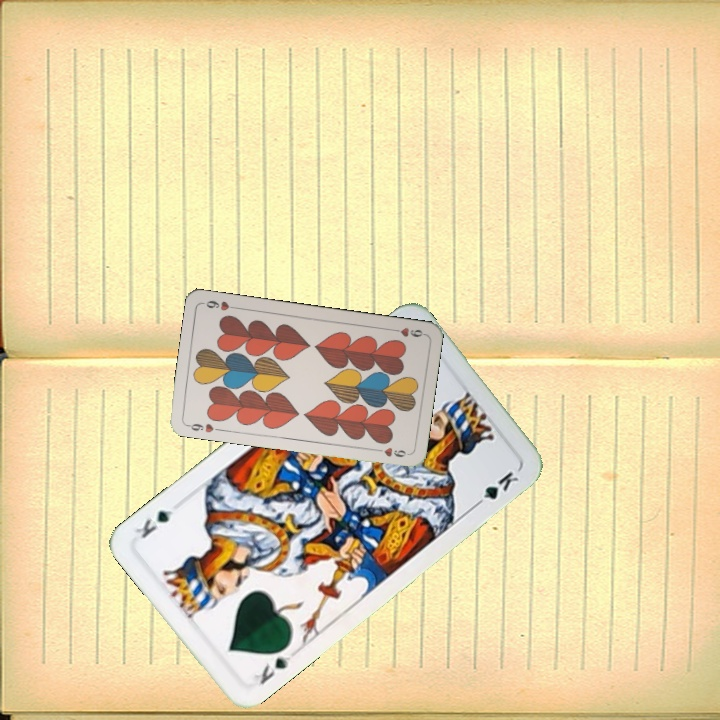GK: (247, 650, 292, 687)
H9: (386, 324, 427, 340), (183, 419, 223, 435)
